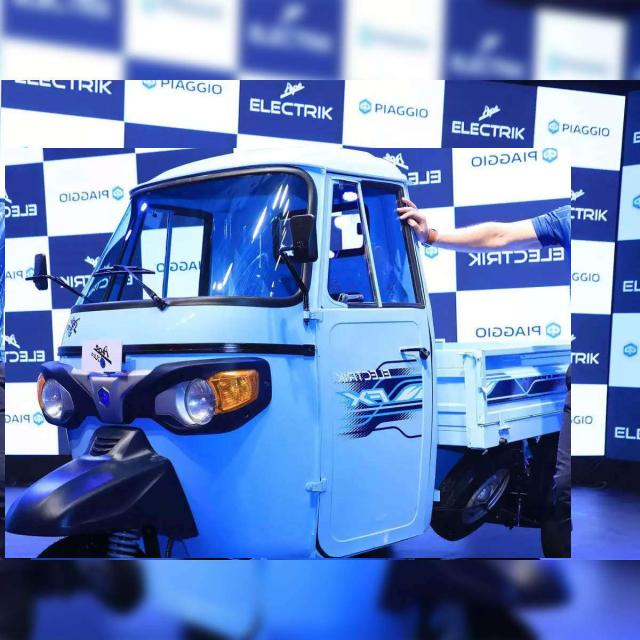autorickshaw: (5, 148, 571, 558)
